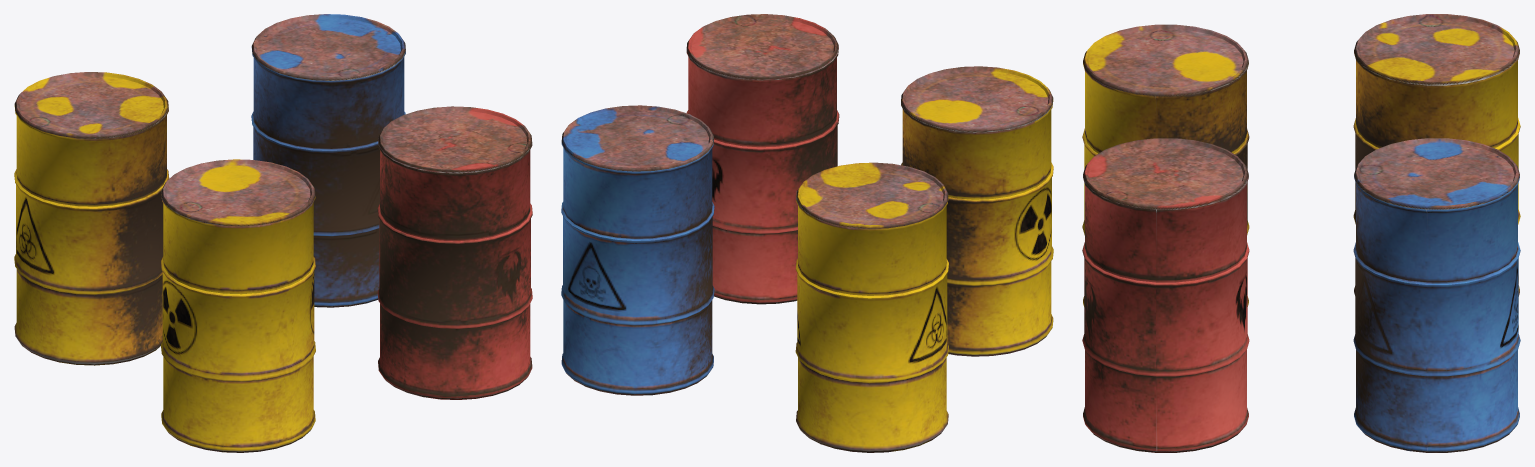
File: bvarrel.FBX
The picture shows the model from 3 angles, left to right: view 1: azimuth 30°, elevation 25°; view 2: azimuth 150°, elevation 25°; view 3: azimuth 270°, elevation 25°; orthographic projection. The views are drawn at different scales.
Parts seen in each view (by area): view 1: barrel_3, barrel_1, barrel_4, barrel_2; view 2: barrel_2, barrel_4, barrel_3, barrel_1; view 3: barrel_1, barrel_2, barrel_4, barrel_3.
Boxes of the visible parts, bbox=[...] form: barrel_3: bbox=[161, 159, 315, 452]; barrel_1: bbox=[377, 106, 532, 399]; barrel_4: bbox=[14, 72, 169, 365]; barrel_2: bbox=[251, 14, 405, 307]; barrel_2: bbox=[561, 105, 714, 395]; barrel_4: bbox=[795, 162, 948, 452]; barrel_3: bbox=[901, 66, 1053, 356]; barrel_1: bbox=[686, 14, 839, 304]; barrel_1: bbox=[1082, 138, 1249, 452]; barrel_2: bbox=[1353, 138, 1520, 452]; barrel_4: bbox=[1353, 14, 1520, 296]; barrel_3: bbox=[1082, 24, 1249, 306].
Bounding box in the file's own units: 168 × 99.43 × 160.
Materials: 1 (1 with a texture image).
